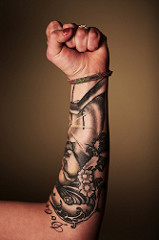fist: (42, 21, 108, 76)
